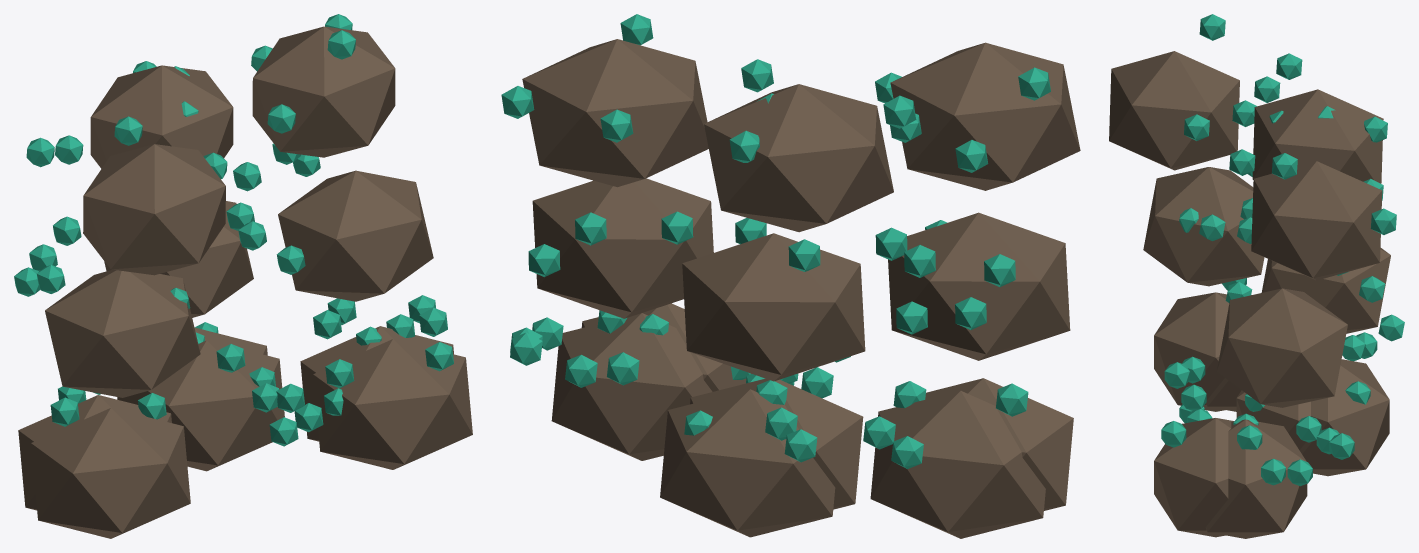
The model's file is Ore_Copper.fbx.
The picture shows the model from 3 angles, left to right: view 1: azimuth 30°, elevation 25°; view 2: azimuth 150°, elevation 25°; view 3: azimuth 270°, elevation 25°; orthographic projection. The views are drawn at different scales.
Parts seen in each view (by area): view 1: Ore_Copper__Stack, Ore_Copper; view 2: Ore_Copper__Stack, Ore_Copper; view 3: Ore_Copper__Stack, Ore_Copper.
Boxes of the visible parts, x1=… form: Ore_Copper__Stack: x1=14, y1=14, x2=453, y2=510; Ore_Copper: x1=31, y1=295, x2=472, y2=538; Ore_Copper__Stack: x1=501, y1=14, x2=1080, y2=538; Ore_Copper: x1=510, y1=303, x2=1073, y2=510; Ore_Copper__Stack: x1=1109, y1=14, x2=1404, y2=538; Ore_Copper: x1=1154, y1=278, x2=1321, y2=537.
Bounding box in the file's own units: 0.1415 × 0.1267 × 0.0898.
